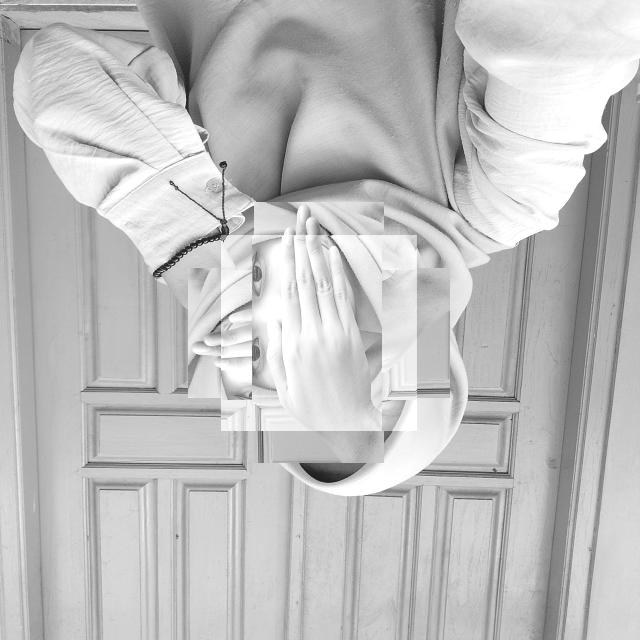buruk: (222, 234, 418, 430)
